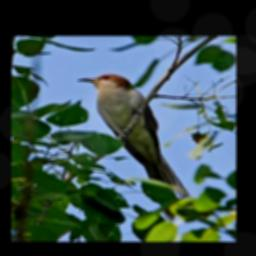Cuckoo: (76, 72, 194, 221)
